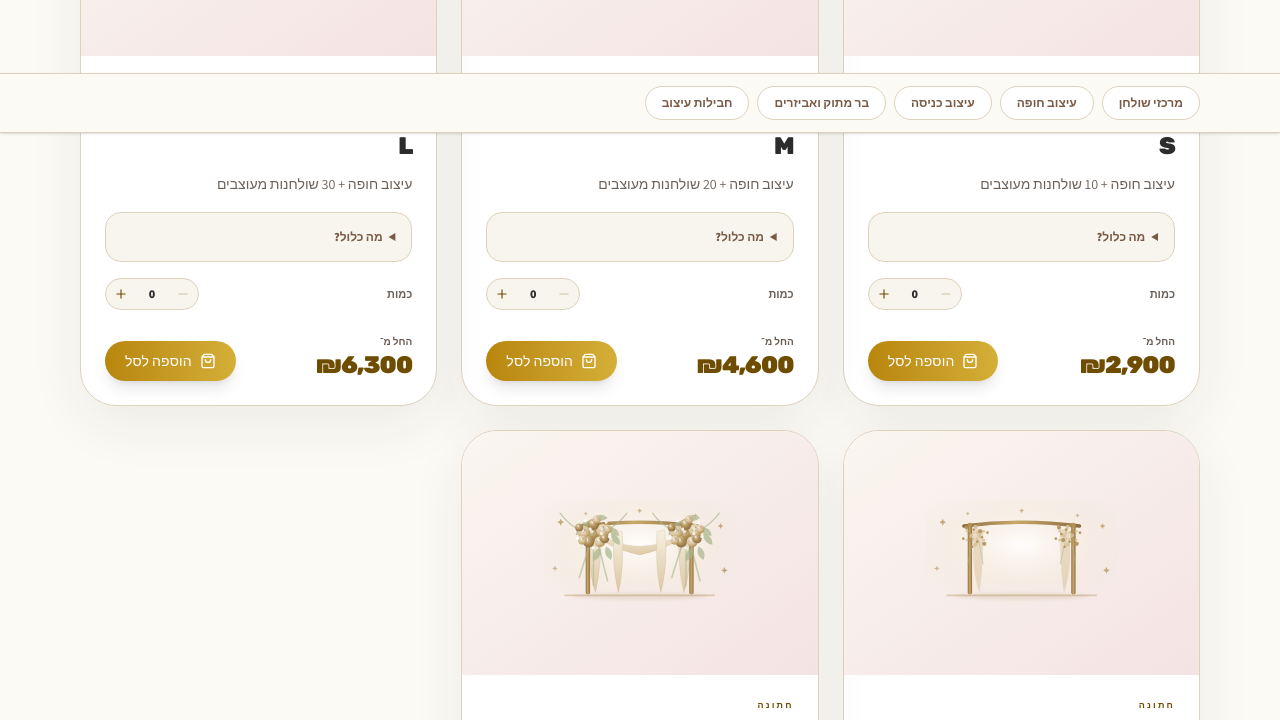
HomePage › adds a package to the same cart while keeping the add label unchanged
(page scrolled)
Click the button "הוספה לסל" below "עיצוב חופה + 10 שולחנות מעוצבים" at (933, 361), box x1=868 y1=341 x2=998 y2=381
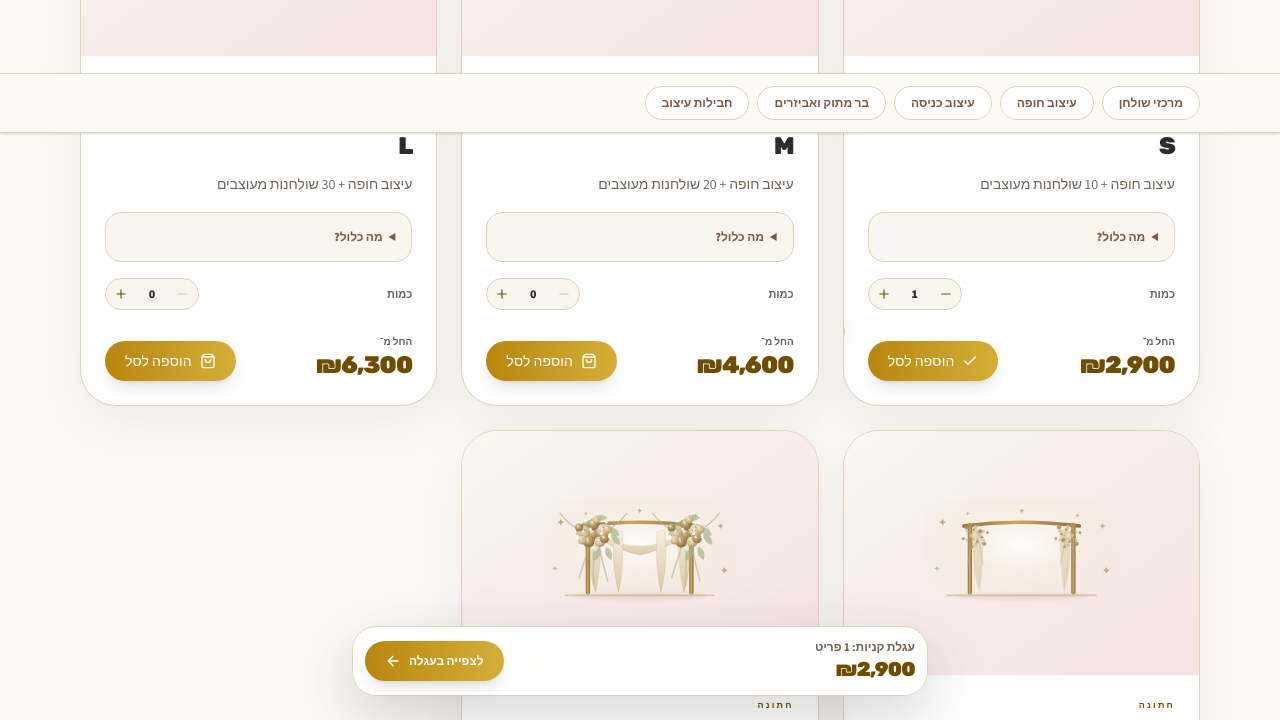
Click the button named "הגדלת כמות חבילת עיצוב חתונה - Classic S" at (884, 294), box x1=869 y1=279 x2=899 y2=309
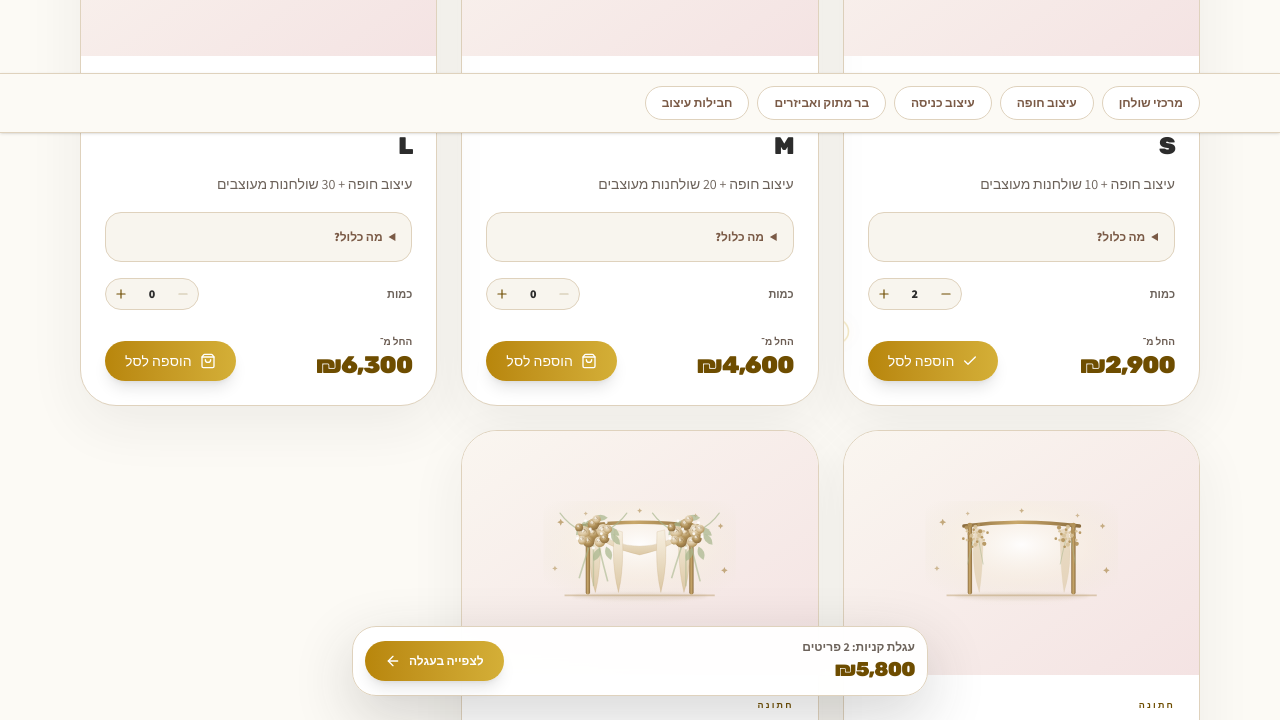
Click the button named "הפחתת כמות חבילת עיצוב חתונה - Classic S" at (946, 294), box x1=931 y1=279 x2=961 y2=309
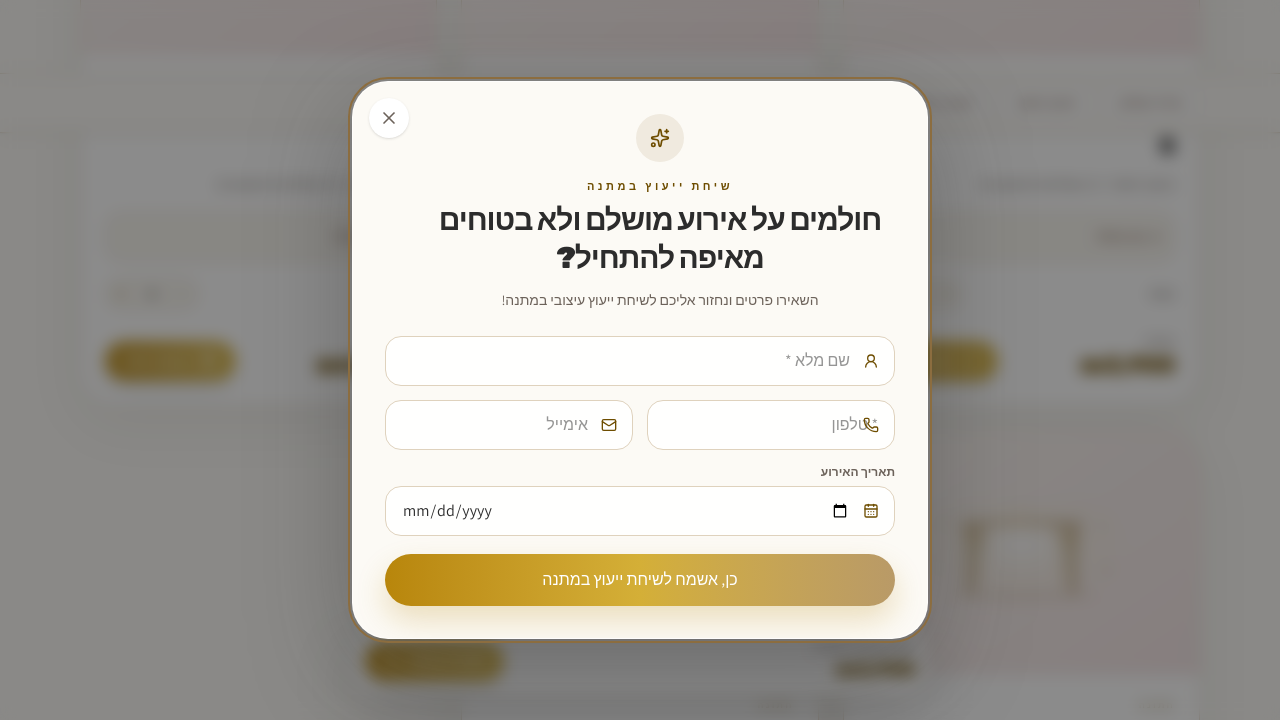
Expected: the text "עגלת קניות: 1 פריט" is shown, x1=815 y1=639 x2=915 y2=655
